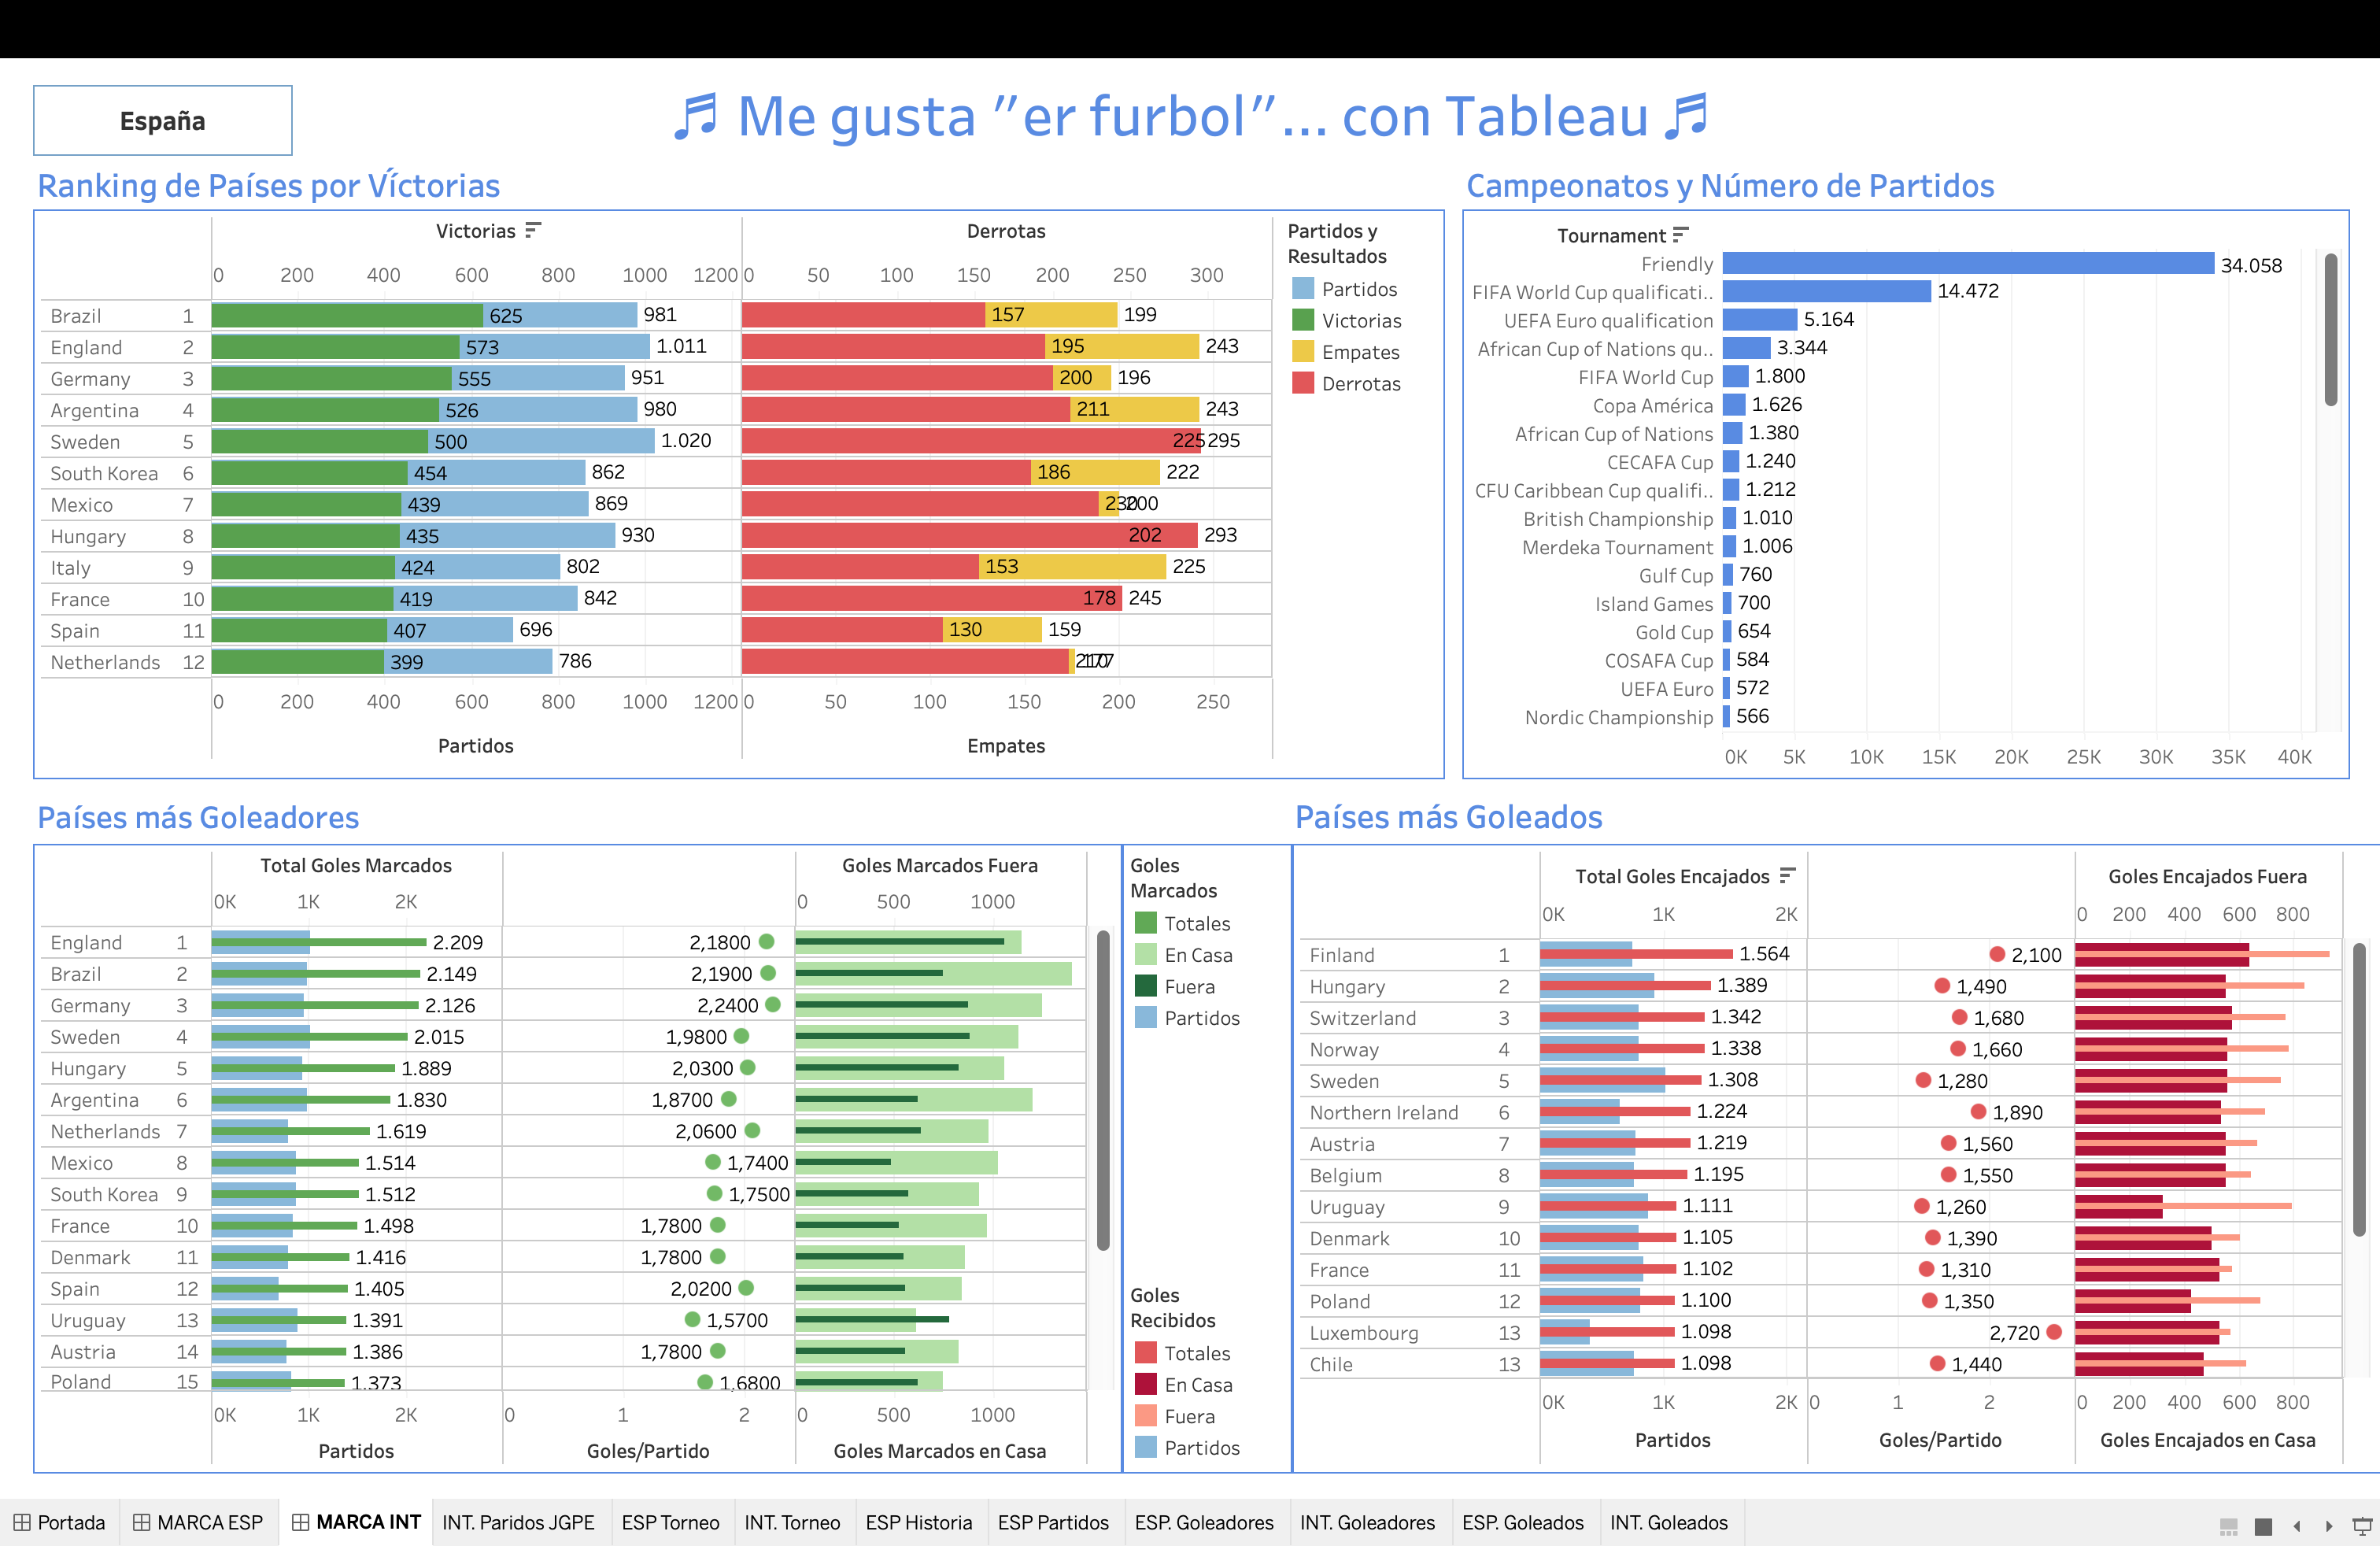

The page's visual inventory and layout, read from the dashboard file:
{"tool":"tableau","page":{"name":"MARCA INT","canvas":[1500,900],"ordinal":1},"visuals":[{"type":"text","box":[4.5,3.4,1492.5,49.5]},{"type":"dashboard-object","box":[15,10,165,45]},{"type":"text","box":[15,56.2,693,33.8]},{"type":"text","box":[922.5,56.2,562.5,33.8]},{"type":"worksheet","title":"INT. Paridos JGPE","mark":"Bar","rows":["Team","Calculation_1713197480478769155"],"cols":["Calculation_1713197480482144263","Calculation_1703627331219632129","numVictorias (copia)_1713197480469565441","numVictorias (copia)_1713197480469405696"],"box":[16,90,792,360]},{"type":"legend","title":"INT. Paridos JGPE","param":"[federated.0mho85w0a3l3a516y5sgc1orto4c].[:Measure Names]","box":[808,90,103,135]},{"type":"worksheet","title":"INT. Torneo","mark":"Automatic","rows":["tournament"],"cols":["results_C67A431140BA41E1A0DCA349696B96E7"],"box":[924,90,562,360]},{"type":"text","box":[15,457,800,35]},{"type":"text","box":[814,457,690,35]},{"type":"worksheet","title":"INT. Goleadores","mark":"Bar","rows":["Team","Calculation_1713197480732418070"],"cols":["Calculation_1713197480482144263","Calculation_1713197480753946650","Calculation_1713197480740663320","Calculation_1713197480727781391","Calculation_1713197480727486478"],"box":[16,493,690,398]},{"type":"legend","title":"INT. Goleadores","param":"[federated.0mho85w0a3l3a516y5sgc1orto4c].[:Measure Names]","box":[708,493,106,129]},{"type":"worksheet","title":"INT. Goleados","mark":"Bar","rows":["Team","Goleadores RANK (copia)_1713197480753430553"],"cols":["Calculation_1713197480482144263","Calculation_1713197480753999899","Ratio golesMarcadosXpartido (copia)_1713197480827256875","Goles R (copia)_1713197480821501993","Goles R (copia) (copia)_1713197480821514282"],"box":[816,493,690,398]},{"type":"blank","box":[708,622,106,144]},{"type":"legend","title":"INT. Goleados","param":"[federated.0mho85w0a3l3a516y5sgc1orto4c].[:Measure Names]","box":[708,766,106,125]}]}

Visuals, with their boxes on the page's 1500x900 design canvas (x1, y1, x2, y2). These are canvas units, not pixel positions in the 2380x1546 screenshot, which may show the page scaled, cropped or inside an application window:
text: BBox(4, 3, 1497, 53)
dashboard-object: BBox(15, 10, 180, 55)
text: BBox(15, 56, 708, 90)
text: BBox(922, 56, 1485, 90)
"INT. Paridos JGPE" worksheet (Bar marks): BBox(16, 90, 808, 450)
"INT. Paridos JGPE" legend: BBox(808, 90, 911, 225)
"INT. Torneo" worksheet: BBox(924, 90, 1486, 450)
text: BBox(15, 457, 815, 492)
text: BBox(814, 457, 1504, 492)
"INT. Goleadores" worksheet (Bar marks): BBox(16, 493, 706, 891)
"INT. Goleadores" legend: BBox(708, 493, 814, 622)
"INT. Goleados" worksheet (Bar marks): BBox(816, 493, 1506, 891)
blank: BBox(708, 622, 814, 766)
"INT. Goleados" legend: BBox(708, 766, 814, 891)
